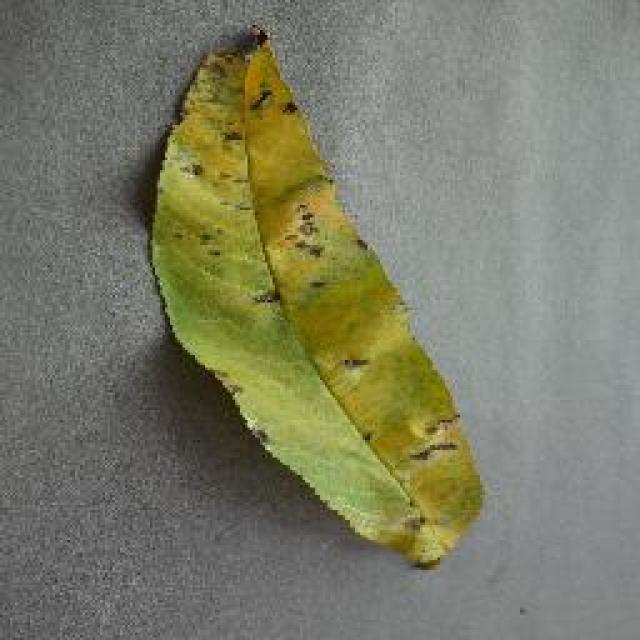Peach_Bacterial_Spot: (168, 35, 464, 450)
